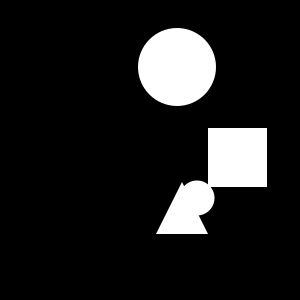circle: (208, 128, 267, 187)
rectangle: (138, 28, 216, 106), (179, 180, 214, 216)
triangle: (156, 182, 208, 234)
